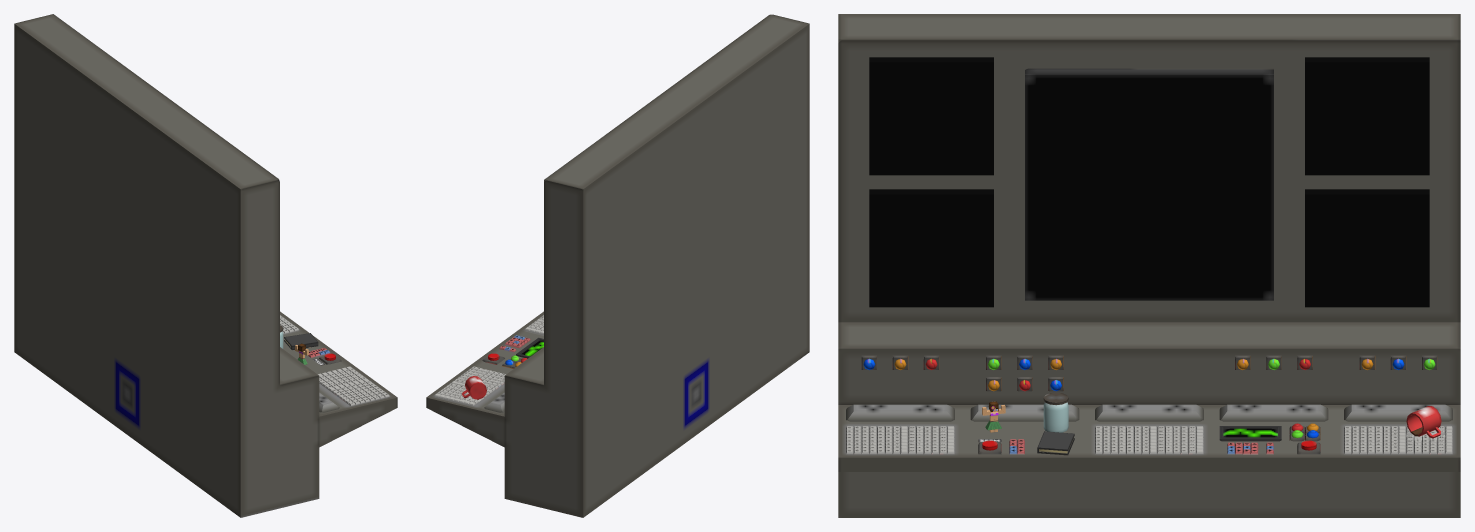
File: radar_mainscreen.obj
3 renders of one model, left to right at view 1: azimuth 30°, elevation 25°; view 2: azimuth 150°, elevation 25°; view 3: azimuth 270°, elevation 25°, orthographic. The views are drawn at different scales.
Parts seen in each view (by area): view 1: Cube; view 2: Cube; view 3: Cube, Main, Sub1, Sub2, Sub3, Sub4.
Boxes of the visible parts, x1,y1,x2,y2 form: Cube: (14,14,397,517); Cube: (426,14,809,517); Cube: (838,14,1460,517); Main: (1025,68,1273,300); Sub1: (1305,57,1429,175); Sub2: (1305,189,1429,307); Sub3: (869,189,993,307); Sub4: (869,57,993,175).
Bounding box in the file's own units: 2 × 4 × 5.
